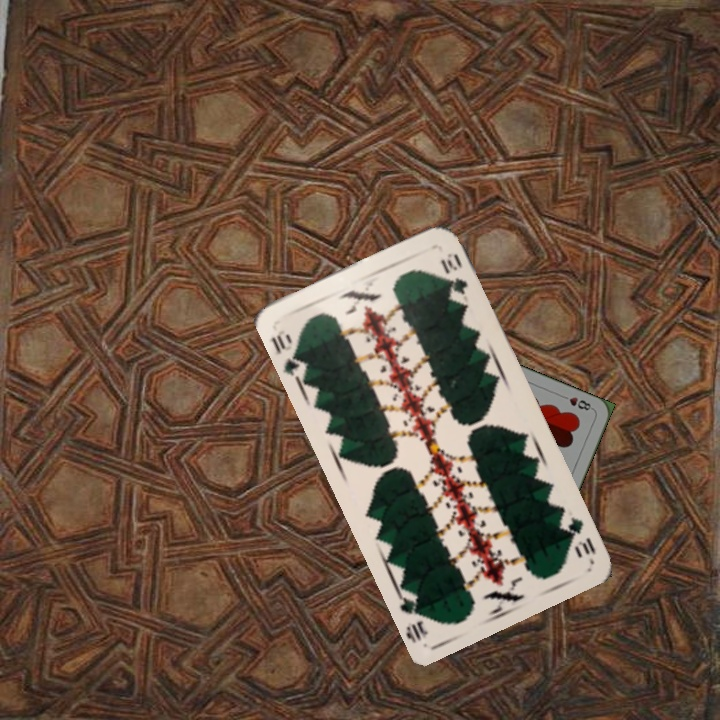G10: (266, 325, 310, 381), (561, 513, 599, 561)
H8: (557, 391, 596, 413)
